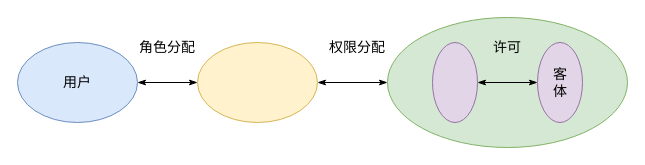
Some shapes in this 645 by 165 pixel diagram are drawn without their labels. Here are the shapes that lost their labels. From the top down, the centre of each, then its label:
At point (257, 82): "角色".
At point (455, 82): "操作".
